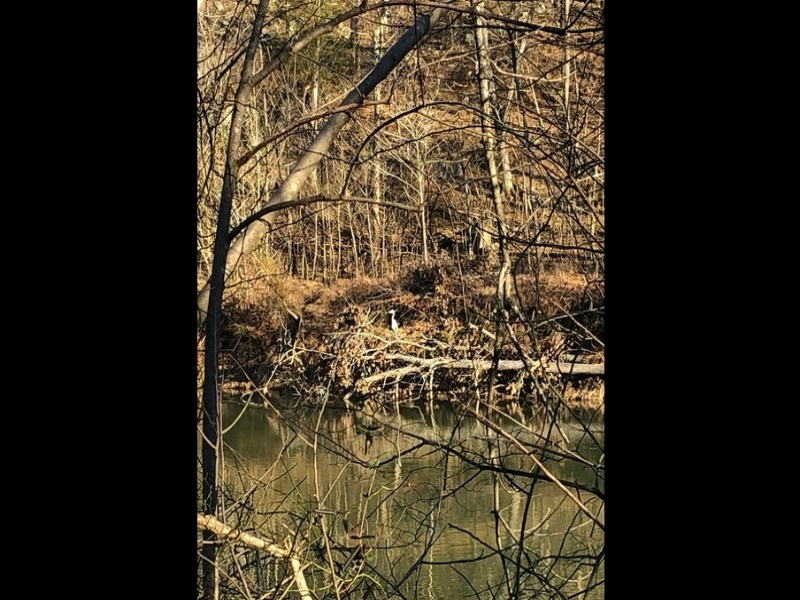heron: (385, 306, 402, 332)
